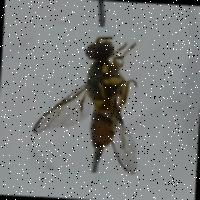Oriental-fruit-fly: (29, 22, 166, 175)
